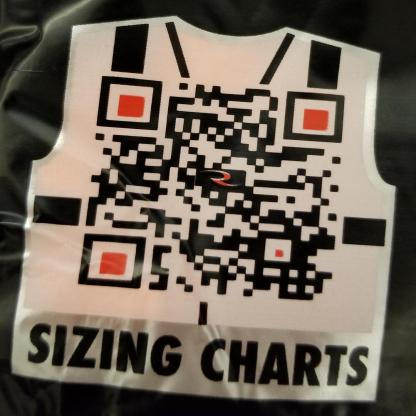qr: (81, 75, 347, 310)
